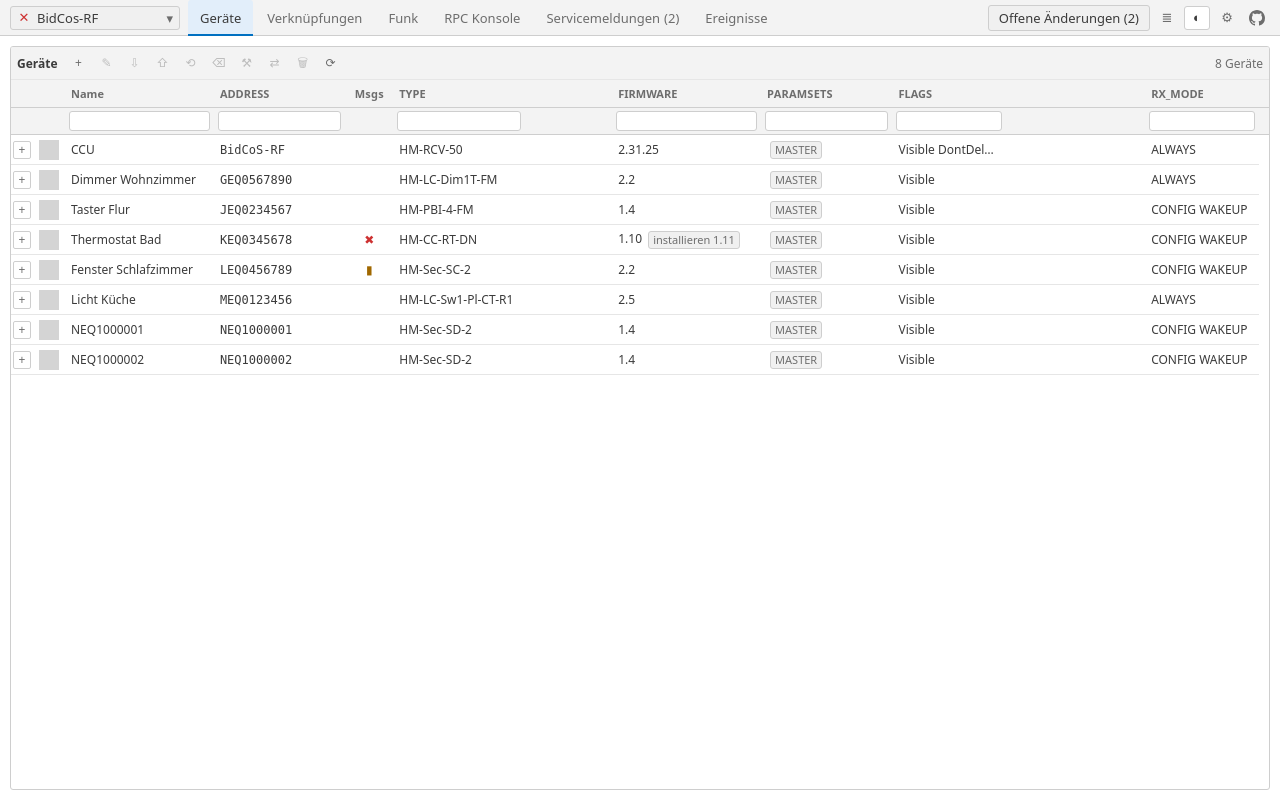
Test: the change set (#124) › collects changes, sends nothing until Apply and then sends all of them
What coordinates should you click on to do the following:
click the button with test id "change-set-open"
I would click on:
 (1069, 18)
Its box is [988,4,1150,30].
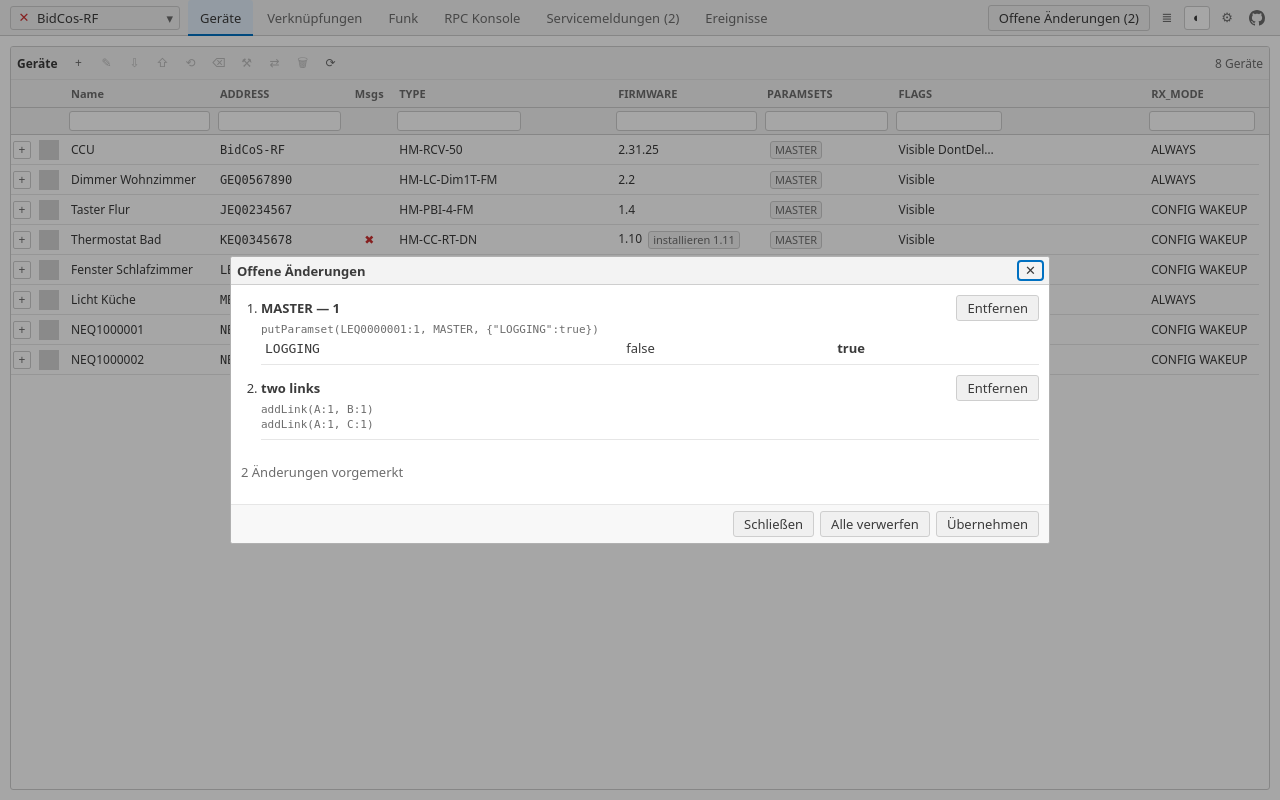
Check: the dialog with test id "change-set-dialog" shows "putParamset(LEQ0000001:1, MASTER, {\"LOGGING\":true})", box [261,323,599,336]
Check: the dialog with test id "change-set-dialog" shows "addLink(A:1, B:1)", box [261,403,374,416]
What coordinates should you click on to do the following:
click the button with test id "change-set-apply"
I would click on:
 (987, 524)
Its box is [936,511,1039,537].
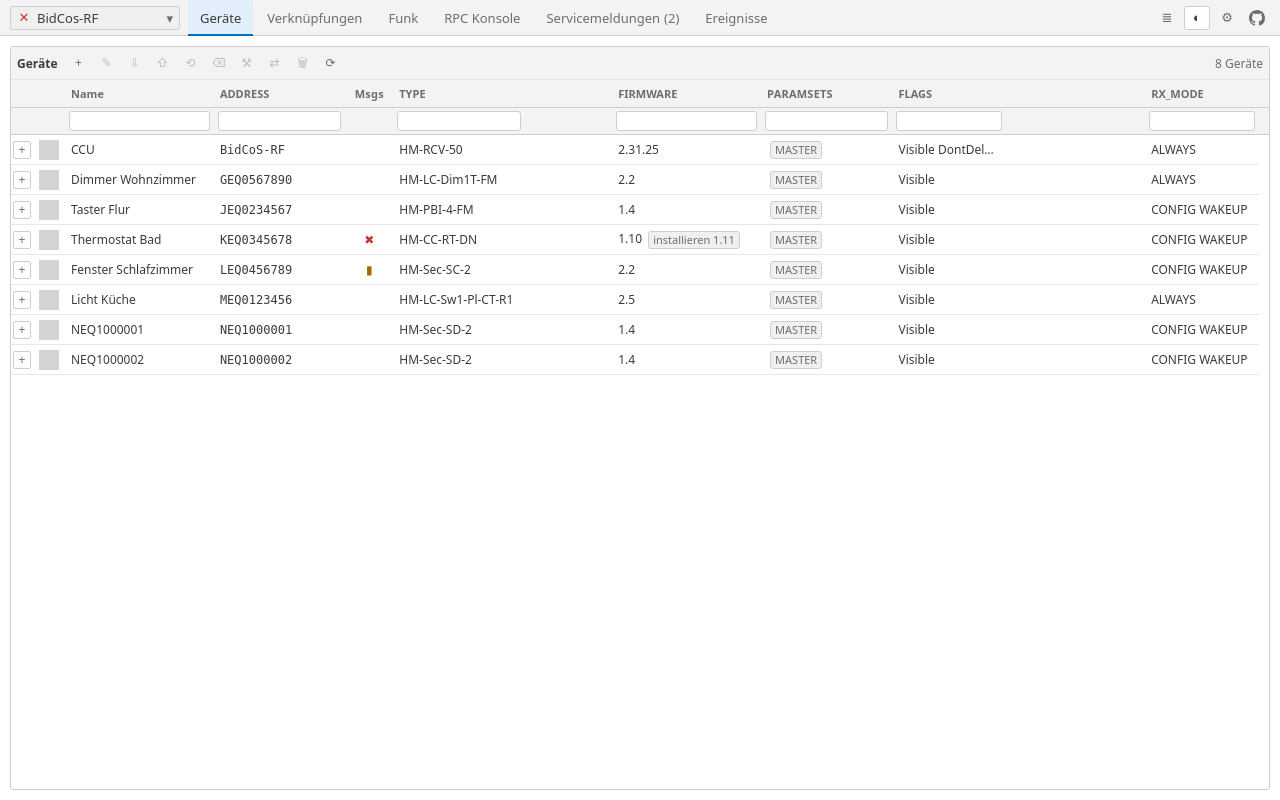
Check: the button with test id "change-set-open" is gone
